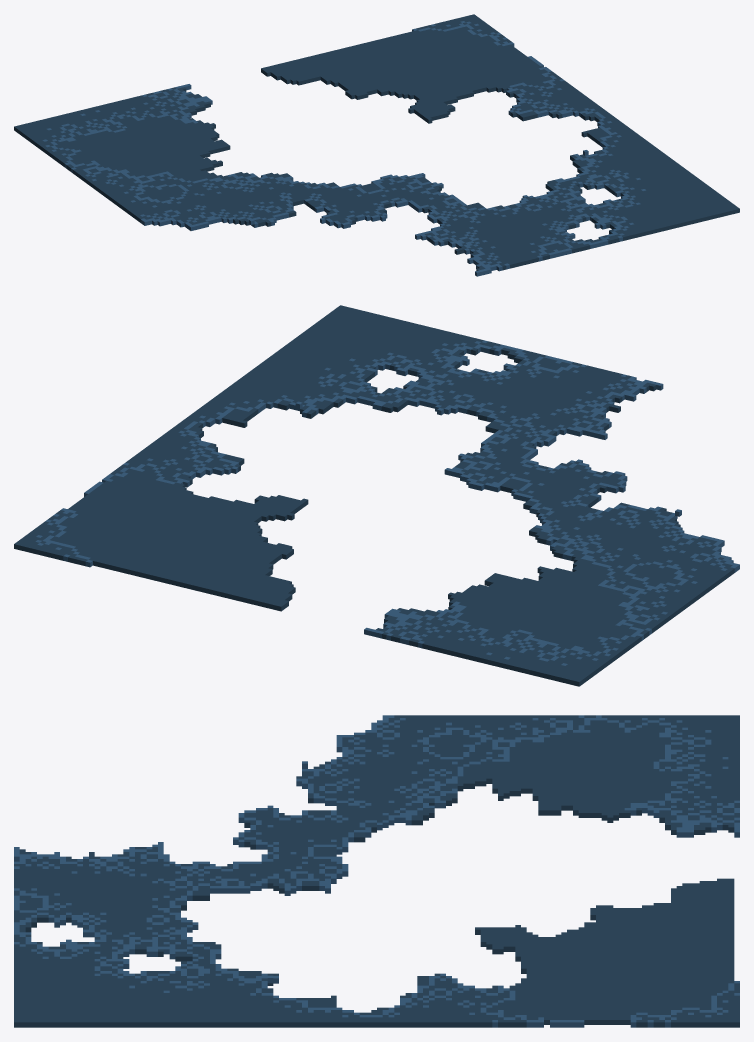
The model's file is Sunken City - Voxel Ruins 1-1-water.obj.
3 views of the same model, one above another, from view 1: azimuth 30°, elevation 25°; view 2: azimuth 150°, elevation 25°; view 3: azimuth 270°, elevation 25° (orthographic). The views are drawn at different scales.
Parts seen in each view (by area): view 1: water; view 2: water; view 3: water.
Part boxes in pixels (box(x1,y1,x2,y2)): water: box(14, 14, 739, 276); water: box(14, 305, 739, 686); water: box(14, 715, 739, 1027).
Size of the model in its own units: 25.2 by 0.4 by 25.2.
Materials: 1 (1 with a texture image).
